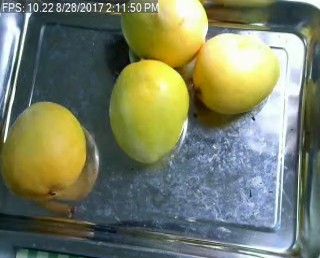Mango: (0, 99, 88, 200), (109, 61, 188, 163), (195, 34, 279, 116), (119, 0, 208, 66)
